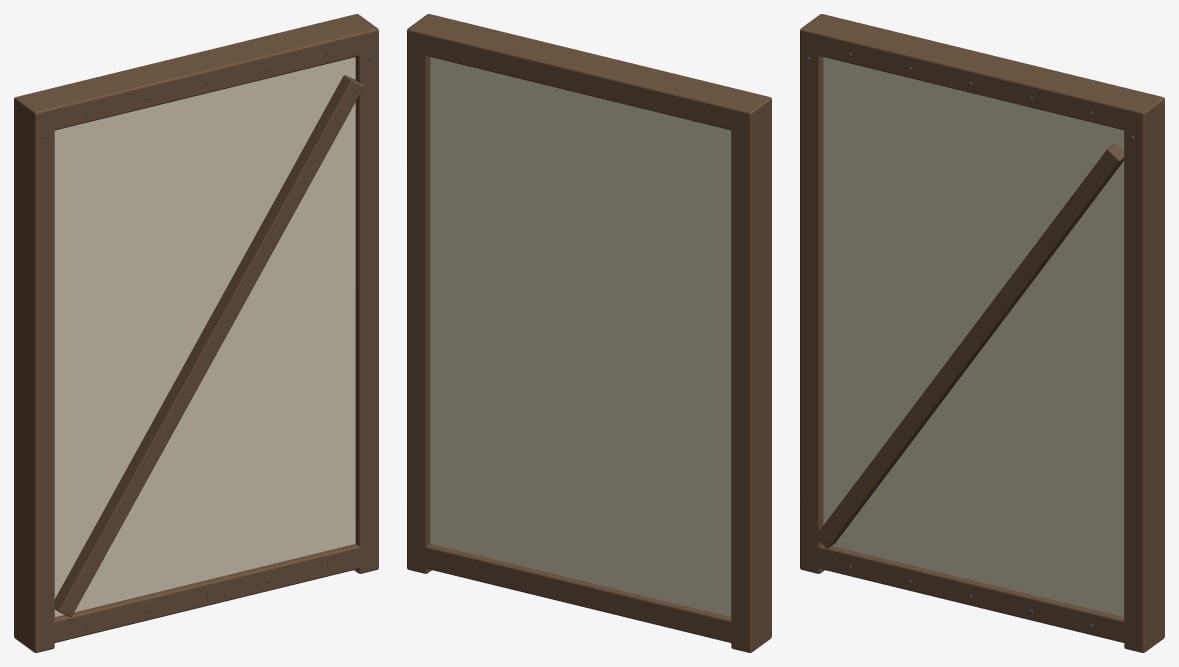
The model's file is adventurers-tavern-and-guild-hall-timber-wall-straight-b2fb5a6d__24665.glb.
3 views of the same model, side by side, from view 1: azimuth 30°, elevation 25°; view 2: azimuth 150°, elevation 25°; view 3: azimuth 330°, elevation 25° (orthographic).
Parts seen in each view (by area): view 1: timber-wall-straight; view 2: timber-wall-straight; view 3: timber-wall-straight.
Part boxes in pixels (x1,y1,x2,y2): timber-wall-straight: [14, 14, 378, 652]; timber-wall-straight: [407, 14, 771, 652]; timber-wall-straight: [800, 14, 1164, 652].
Size of the model in its own units: 2 by 3 by 0.2651.
